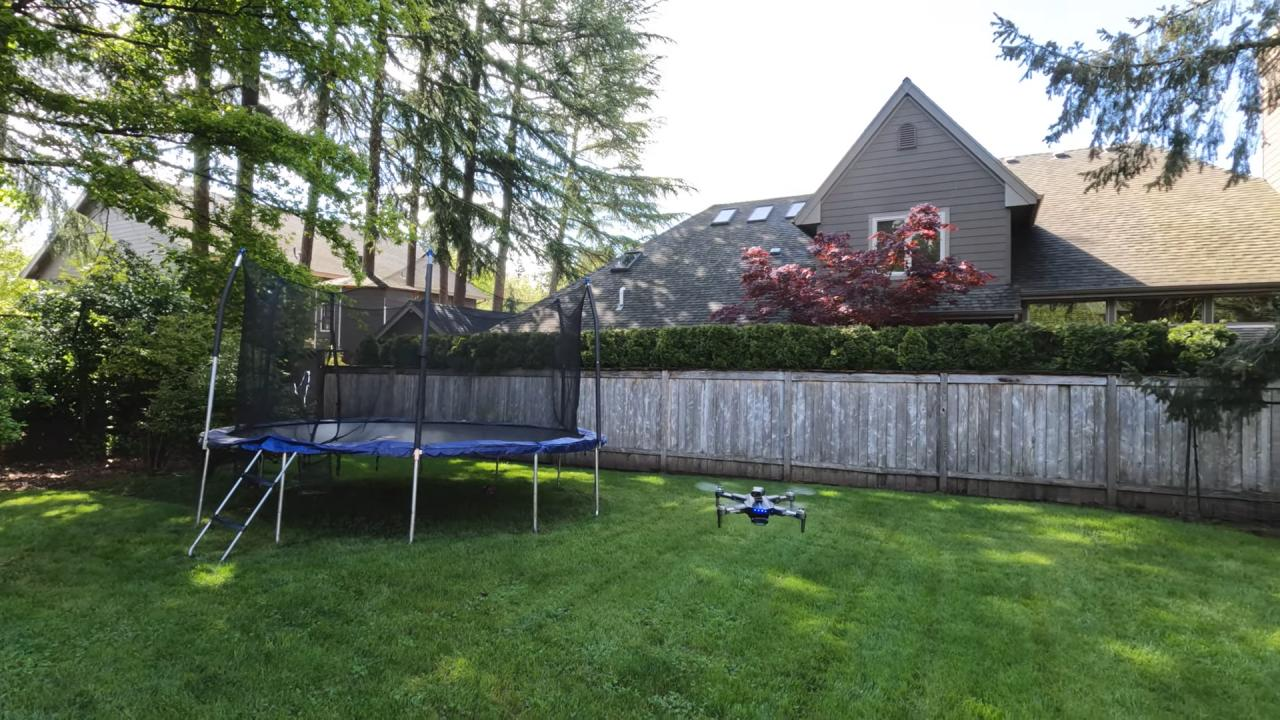Drone: (688, 476, 826, 540)
